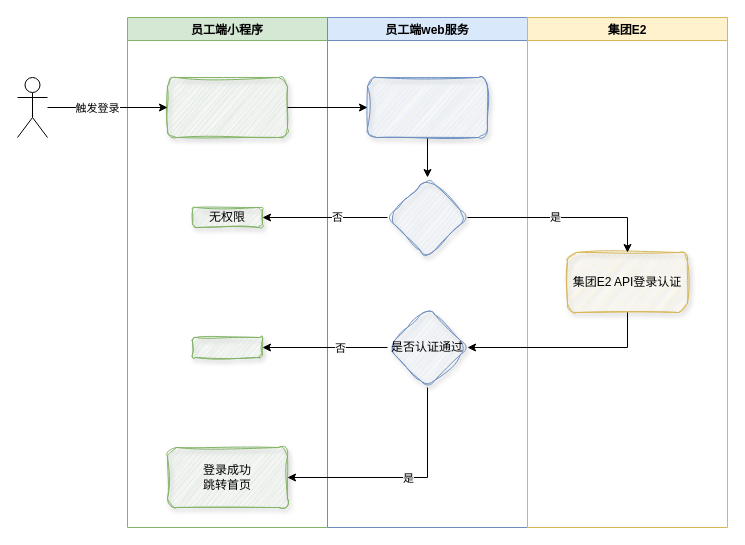
Some shapes in this 745 by 545 pixel diagram are drawn without their labels. Here are the shapes that lost their labels. From the top down, the centre of each, then its label:
(228,108): 定制化登录页
(428,108): 登录接口
(428,218): 是否在白名单
(228,348): 错误信息
